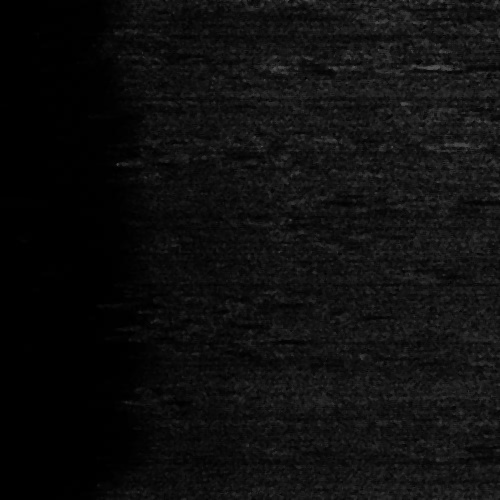object: (400, 62, 463, 67), (459, 333, 500, 338)
shadow: (432, 62, 500, 67), (491, 333, 500, 338)
